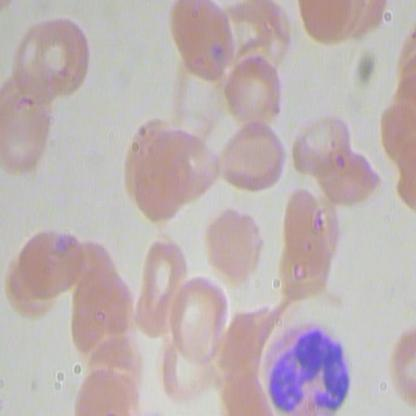RBC: (125, 130, 196, 225), (130, 230, 190, 339), (214, 115, 288, 197), (164, 275, 233, 362), (165, 1, 238, 80), (17, 219, 88, 298), (217, 50, 288, 129), (199, 204, 266, 284), (34, 14, 91, 97), (310, 143, 384, 206), (288, 112, 358, 177)
WBC: (260, 320, 356, 415)
